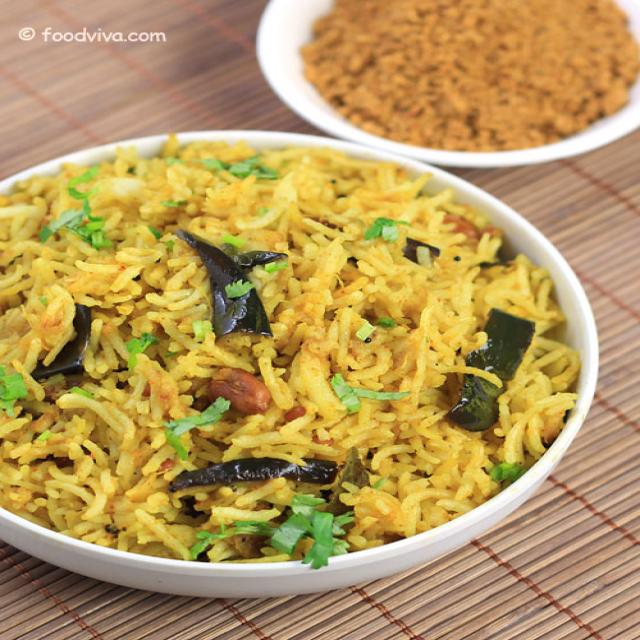vangi bath: (0, 128, 589, 586)
